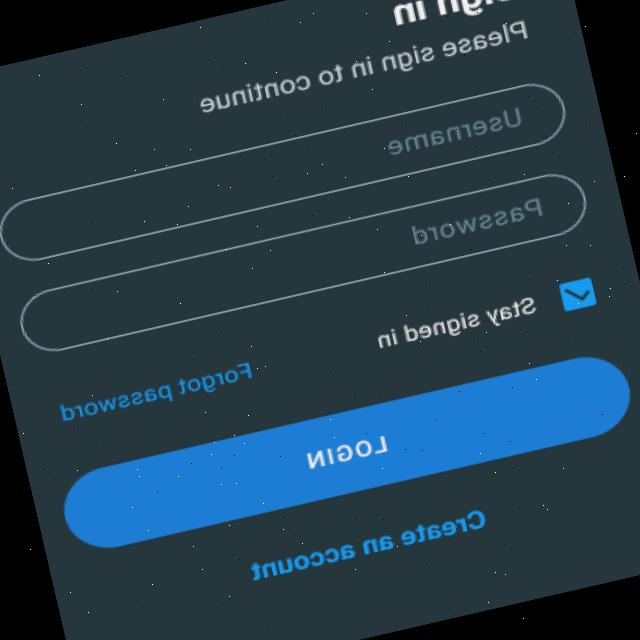QLabel: (194, 16, 536, 120), (245, 506, 490, 583), (54, 358, 258, 427), (383, 0, 522, 32), (302, 432, 392, 471)
VBtn: (53, 347, 640, 558), (79, 448, 640, 639)
VCheckbox: (368, 275, 598, 356)
VTextField: (12, 163, 596, 360), (0, 73, 574, 268)
